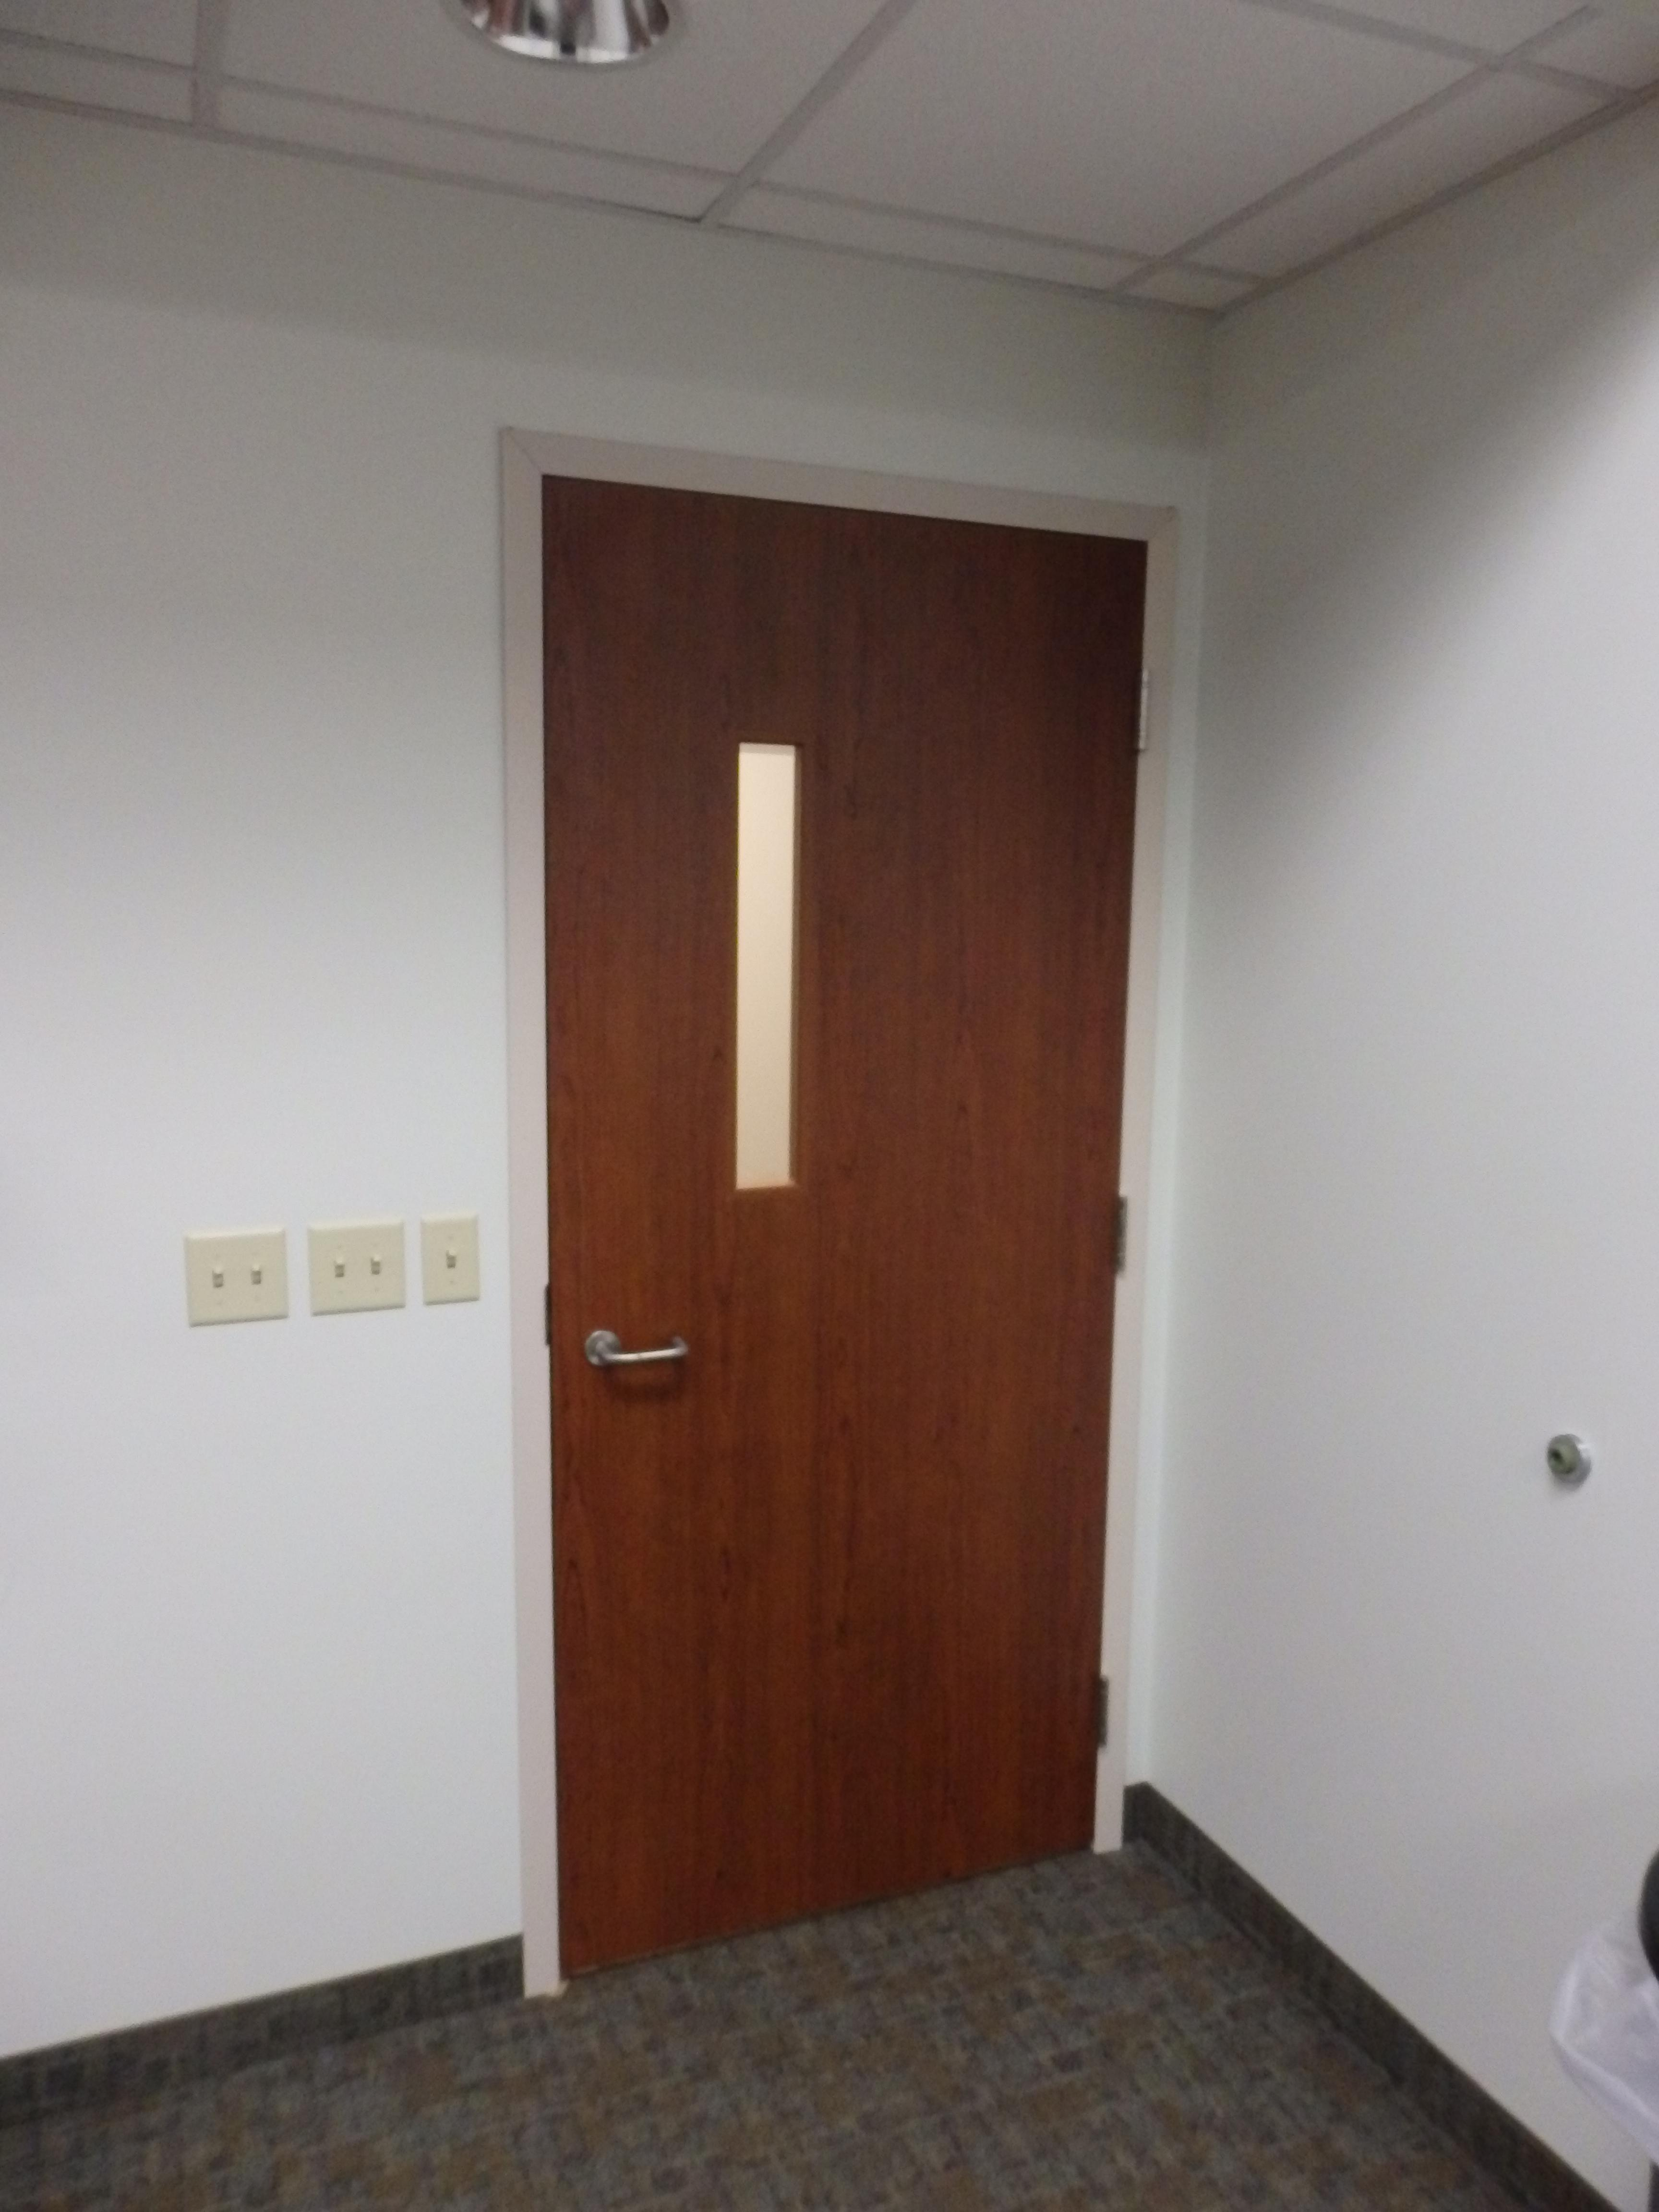door: (504, 427, 1185, 1996)
